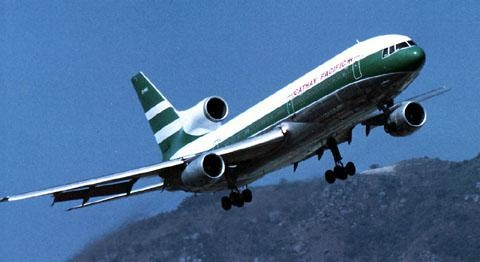airplane: (1, 32, 438, 220)
